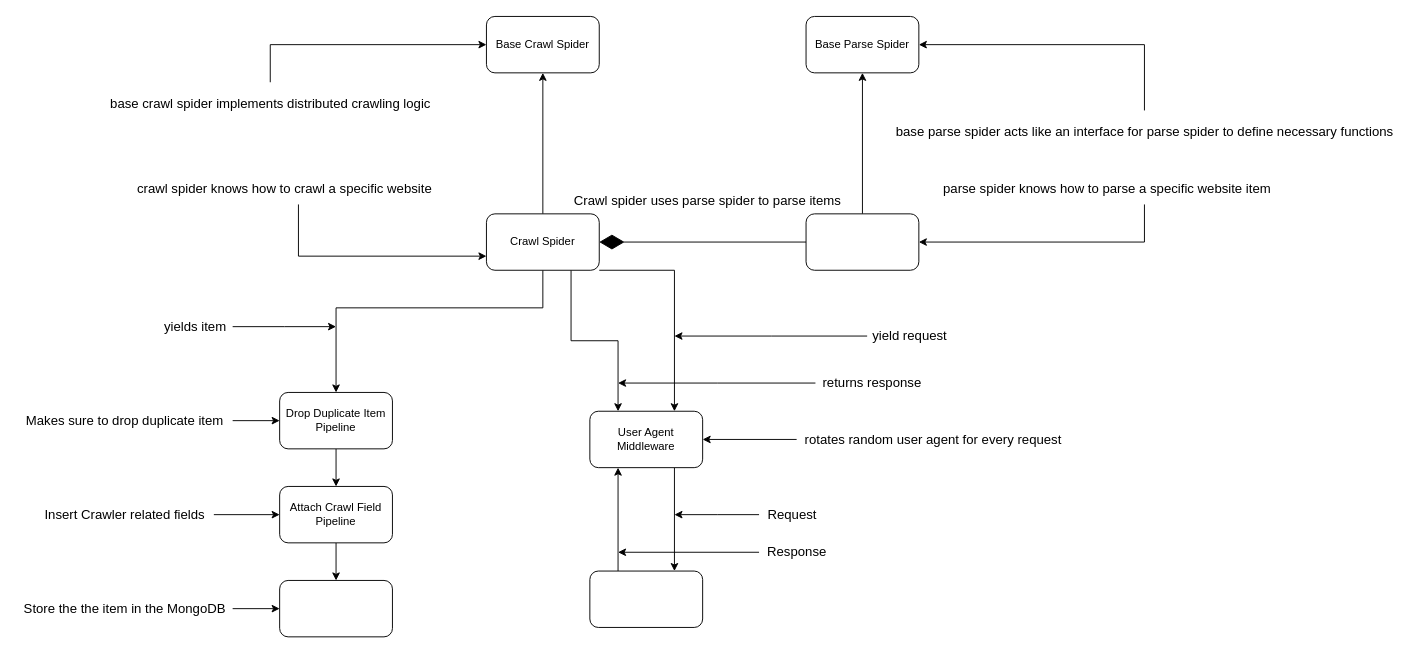
Some shapes in this 1414 by 653 pixel diagram are drawn without their labels. Here are the shapes that lost their labels. From the top down, the centre of each, then its label:
At point (862, 241): "Parse Spider".
At point (335, 608): "MongoDB Pipeline".
At point (646, 598): "Crawler Engine".
